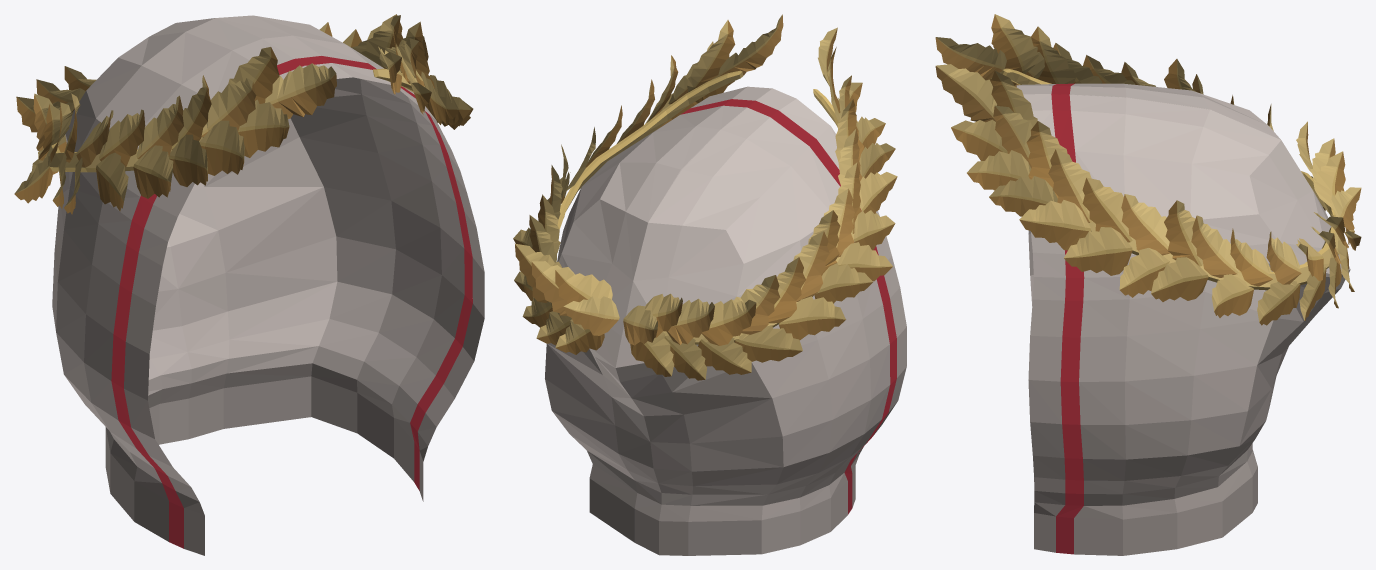
Rendered from greekOakWreathHoodedLight.glb.
3 views of the same model, side by side, from view 1: azimuth 30°, elevation 25°; view 2: azimuth 150°, elevation 25°; view 3: azimuth 270°, elevation 25° (orthographic). The views are drawn at different scales.
Parts seen in each view (by area): view 1: greekOakWreathHoodedLight; view 2: greekOakWreathHoodedLight; view 3: greekOakWreathHoodedLight.
Boxes of the visible parts, bbox=[...] form: greekOakWreathHoodedLight: bbox=[14, 14, 484, 555]; greekOakWreathHoodedLight: bbox=[513, 14, 906, 555]; greekOakWreathHoodedLight: bbox=[935, 14, 1361, 555].
Size of the model in its own units: 0.3663 by 0.4467 by 0.3743.
